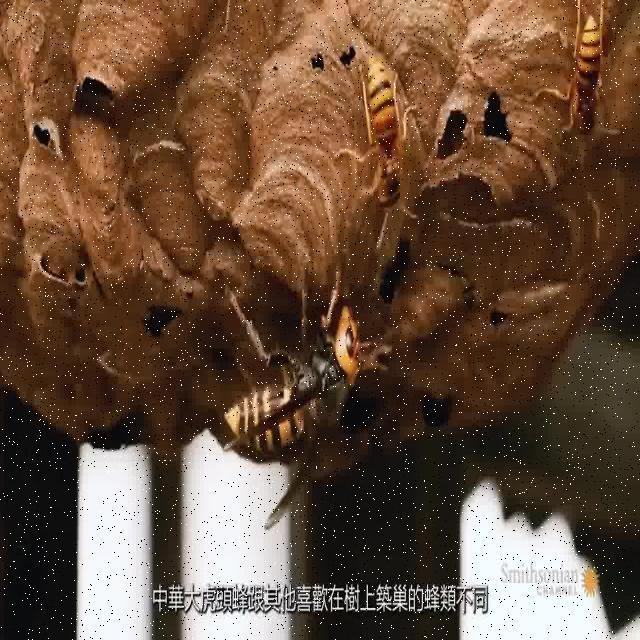Wasp: (214, 283, 374, 528)
